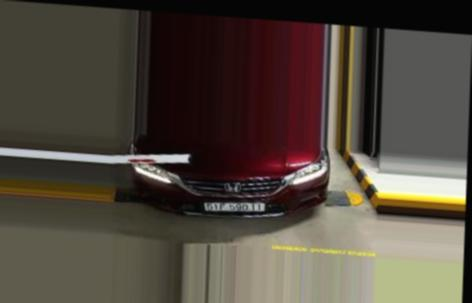License_Plate: (202, 197, 267, 215)
